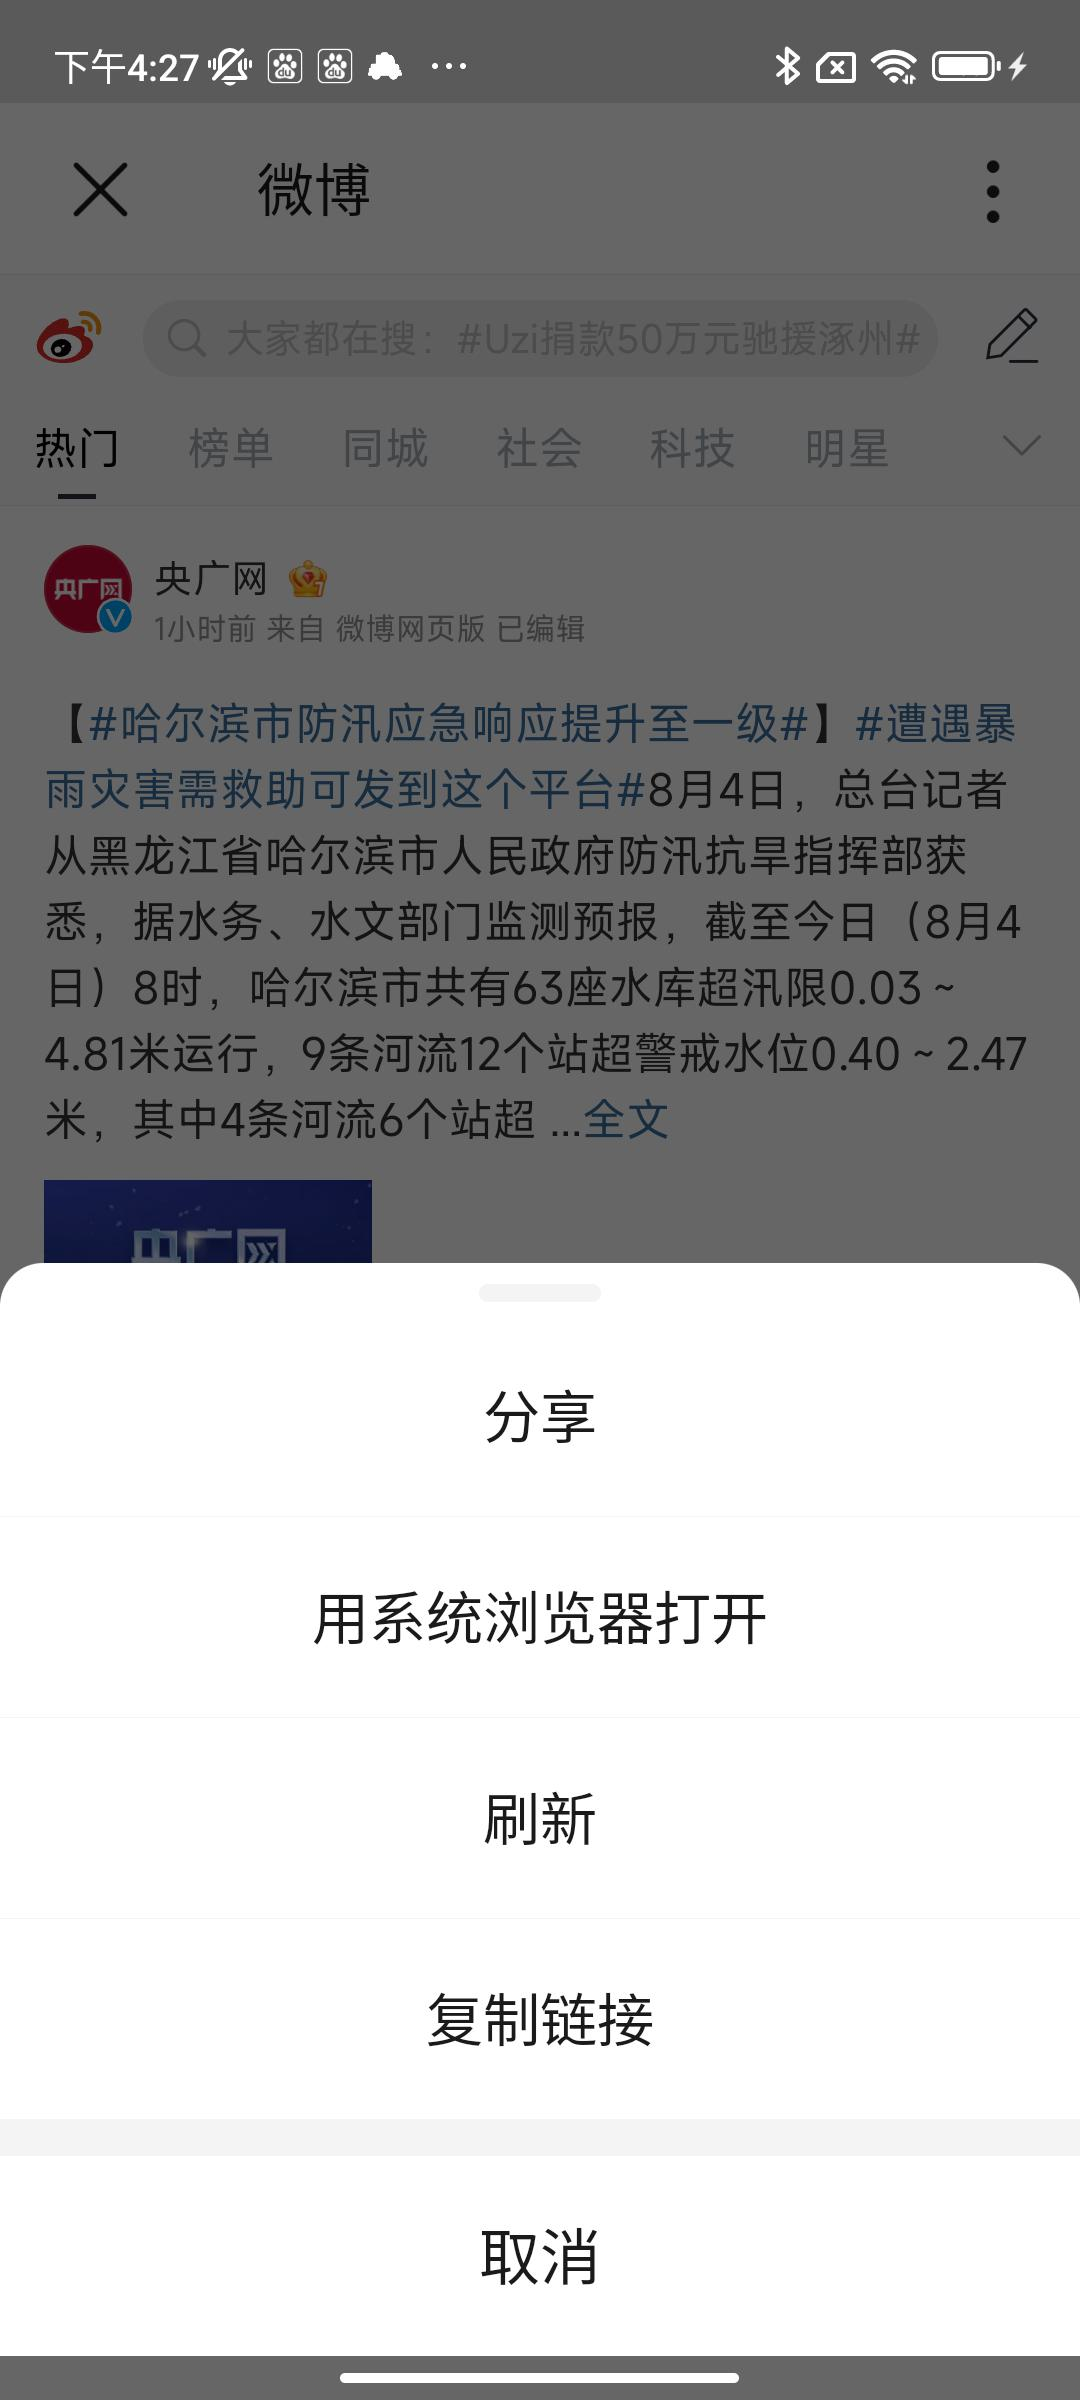ui_group: (2, 1270, 1080, 2360)
